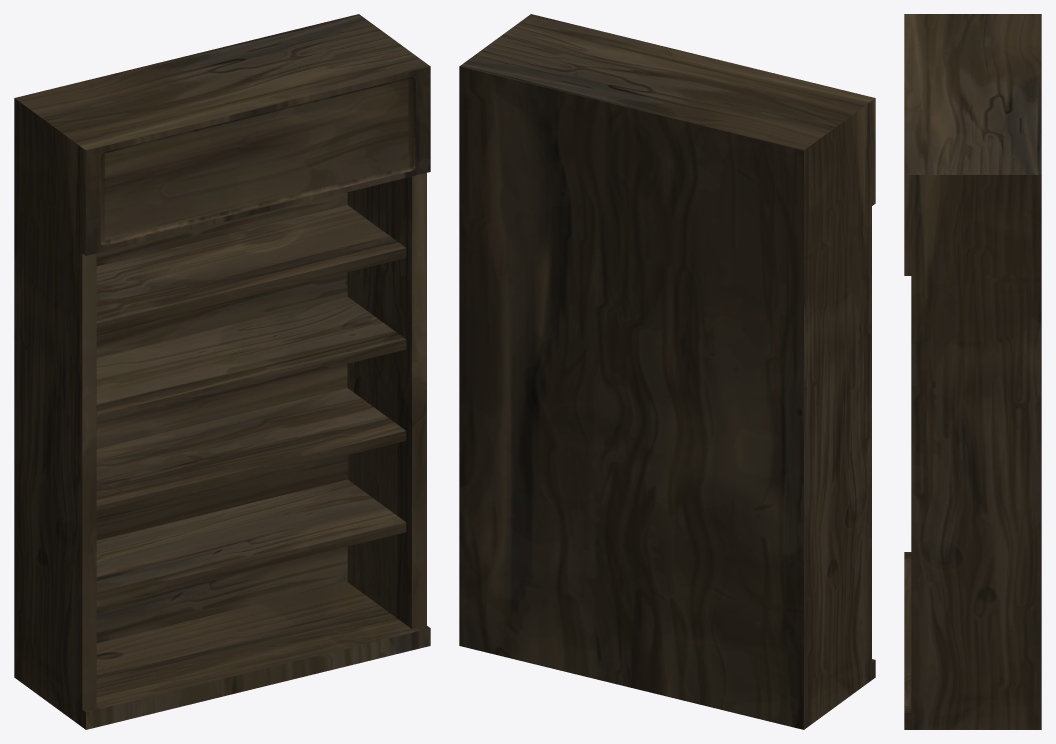
Rendered from Bookshelf.fbx.
3 renders of one model, left to right at view 1: azimuth 30°, elevation 25°; view 2: azimuth 150°, elevation 25°; view 3: azimuth 270°, elevation 25°, orthographic. The views are drawn at different scales.
Parts seen in each view (by area): view 1: Box002; view 2: Box002; view 3: Box002.
Part boxes in pixels (x1=…): Box002: x1=14, y1=14, x2=430, y2=729; Box002: x1=459, y1=14, x2=875, y2=729; Box002: x1=904, y1=14, x2=1041, y2=729.
Size of the model in its own units: 50 by 80.36 by 18.
Materials: 1 (1 with a texture image).
